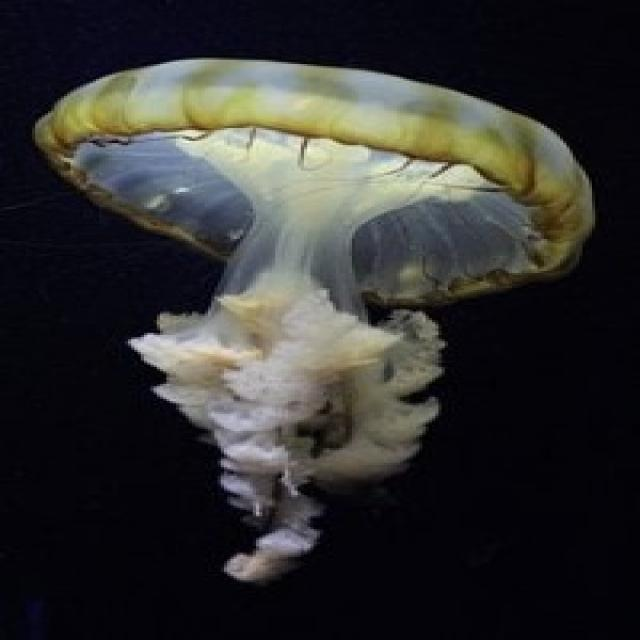Jellyfish: (34, 59, 600, 581)
